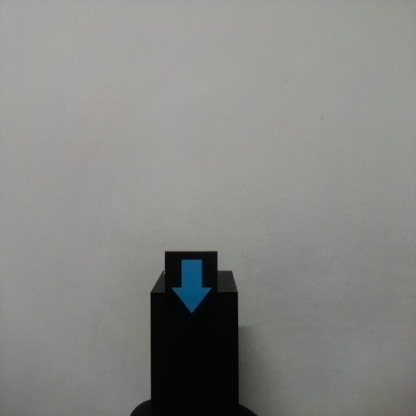id_2: (165, 251, 218, 317)
